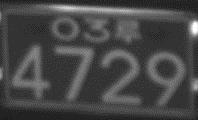0: (50, 16, 80, 41)
2: (100, 47, 142, 106)
3: (81, 17, 109, 43)
4: (12, 45, 51, 100)
7: (53, 44, 95, 102)
9: (145, 49, 186, 106)
무: (115, 20, 139, 44)
